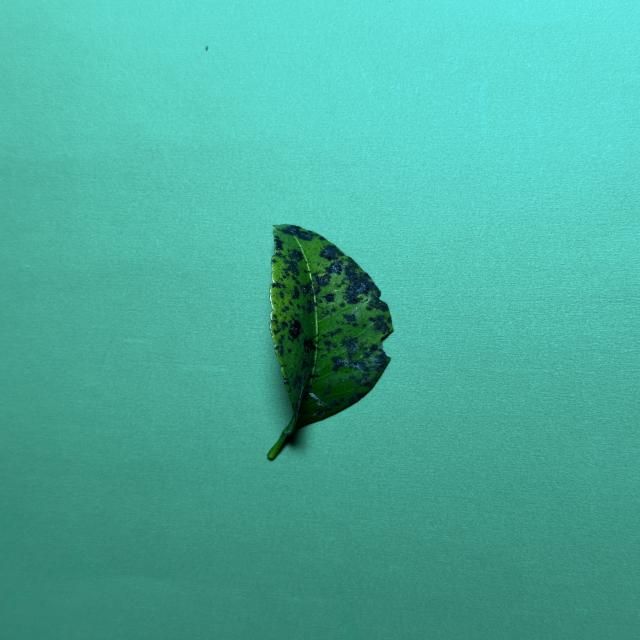sooty_mold: (268, 224, 393, 460)
